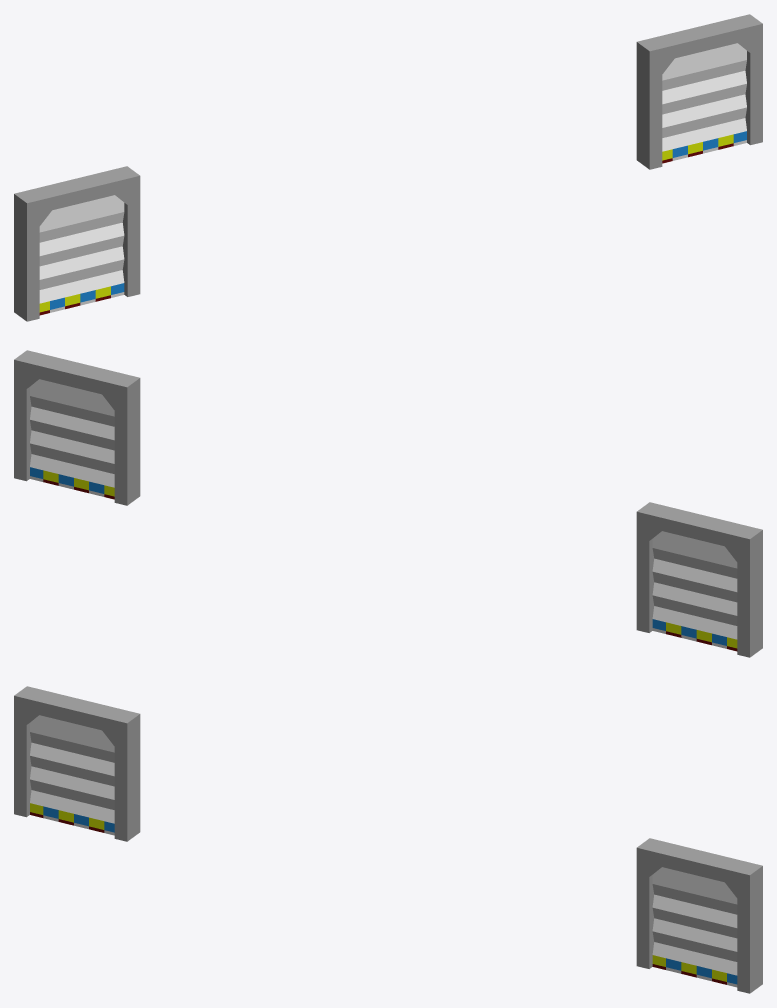
Rendered from Containment1.fbx_DisabledDoors.fbx.
3 views of the same model, one above another, from view 1: azimuth 30°, elevation 25°; view 2: azimuth 150°, elevation 25°; view 3: azimuth 330°, elevation 25° (orthographic).
Visible parts, largest first — view 1: DoorOff, DoorOff.001, DoorwayOff.001, DoorwayOff; view 2: DoorOff, DoorOff.001, DoorwayOff.001, DoorwayOff; view 3: DoorOff.001, DoorOff, DoorwayOff, DoorwayOff.001.
Part boxes in pixels (x1,y1,x2,y2): DoorOff: (39,195,124,315); DoorOff.001: (662,43,746,163); DoorwayOff.001: (636,14,762,169); DoorwayOff: (14,166,140,321); DoorOff: (652,531,737,651); DoorOff.001: (30,379,114,499); DoorwayOff.001: (14,350,140,505); DoorwayOff: (636,502,762,657); DoorOff.001: (652,867,737,987); DoorOff: (30,715,114,835); DoorwayOff: (14,686,140,841); DoorwayOff.001: (636,838,762,993).
Size of the model in its own units: 1950 by 300 by 60.
